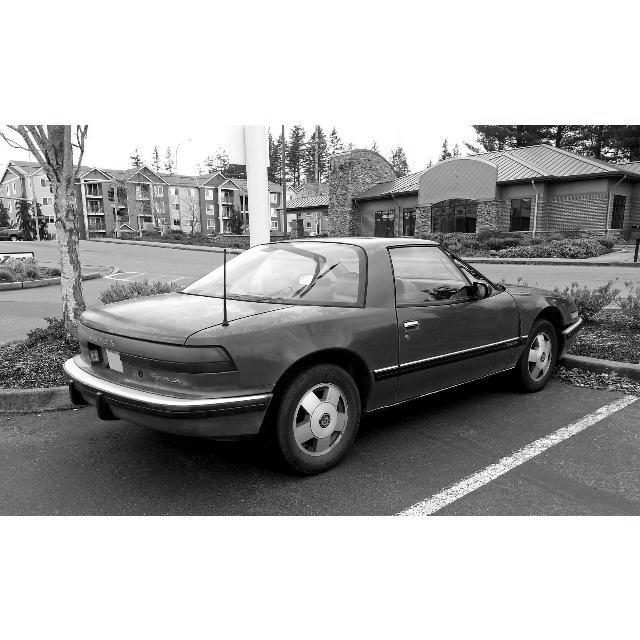quaterpanel-dent: (226, 303, 404, 372)
